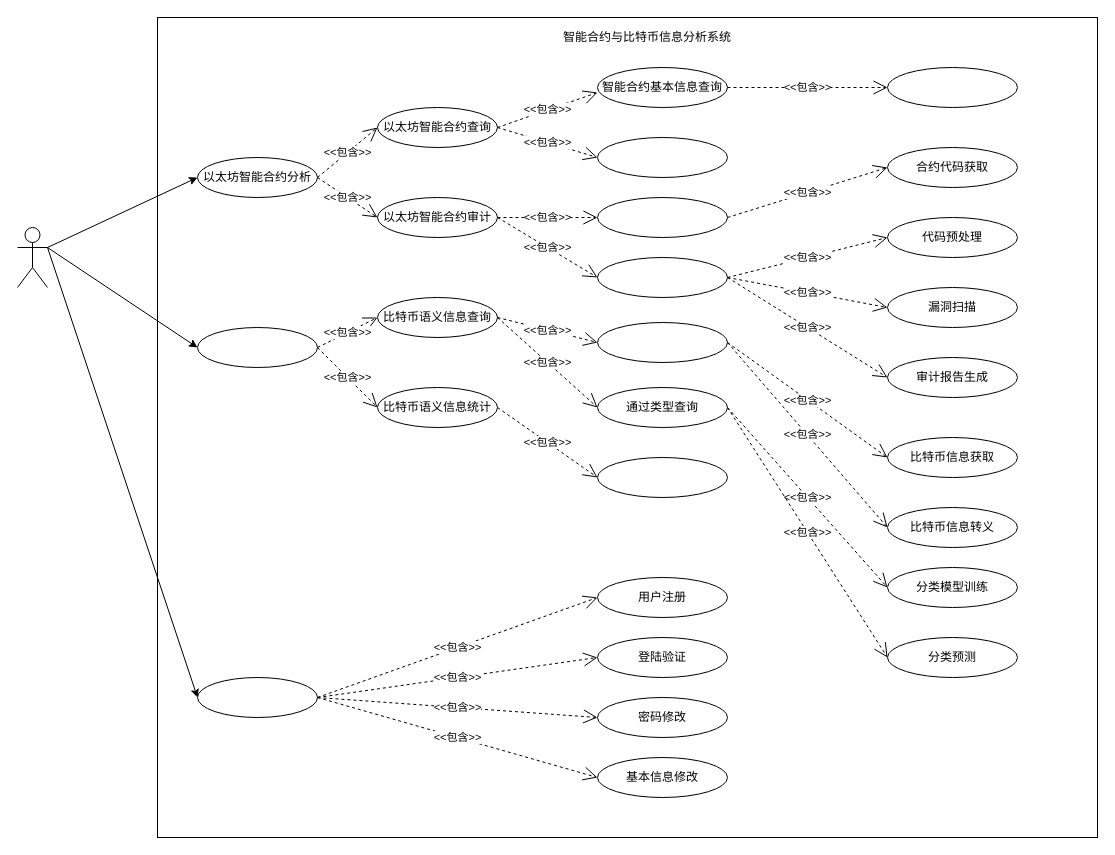
Some shapes in this 1115 by 855 pixel diagram are drawn without their labels. The centre of each missing label's shape, as x and y in pixels:
"合约基本信息获取" goes at point 952,87.
"合约审计报告查询" goes at point 662,157.
"数据可视化" goes at point 662,477.
"比特币语义信息分析" goes at point 257,347.
"用户" goes at point 32,257.
"用户管理" goes at point 257,697.
"通过代码审计" goes at point 662,277.
"通过区块查询" goes at point 662,342.
"通过地址审计" goes at point 662,217.
